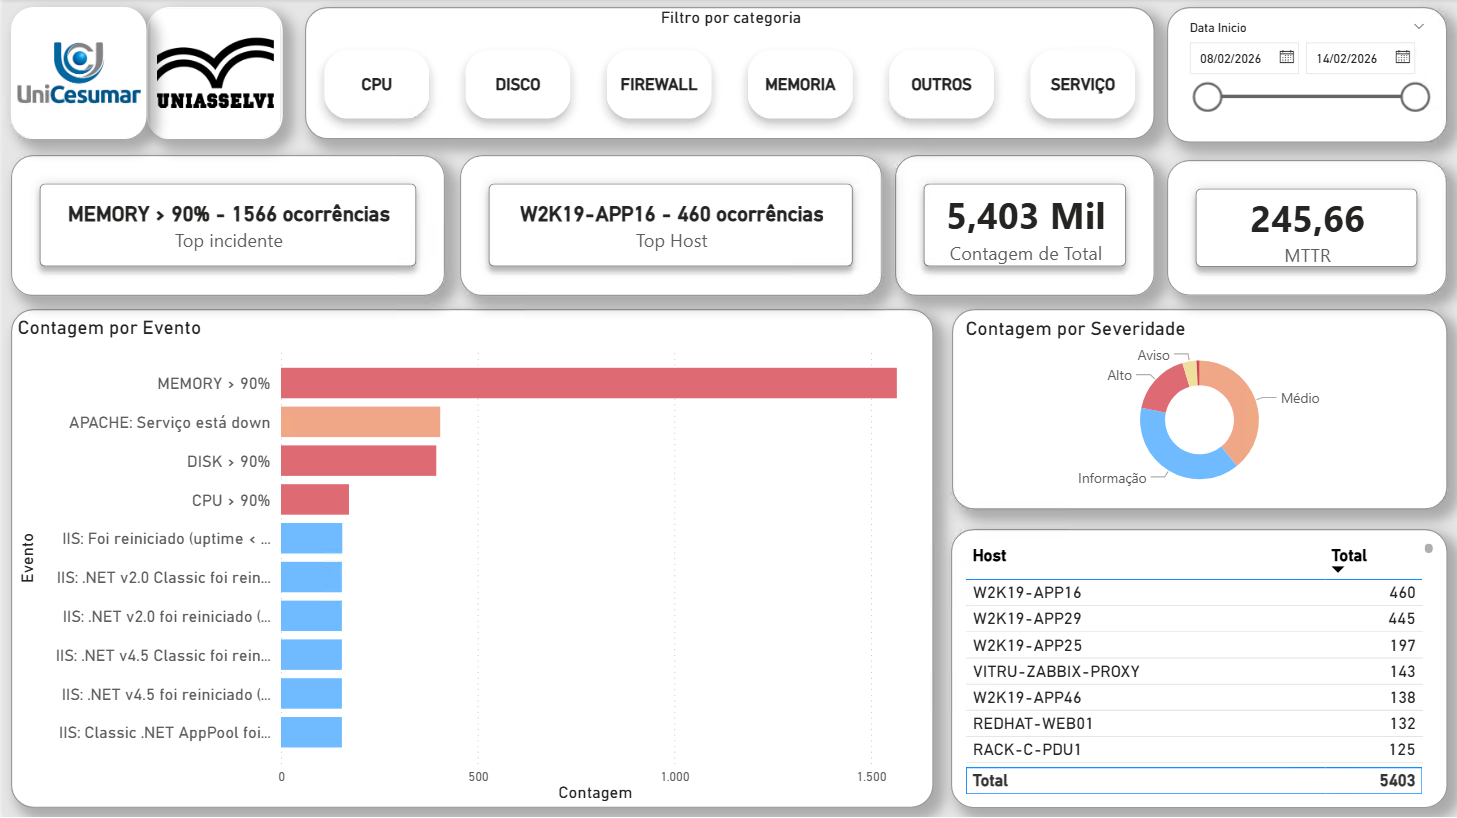

The page's visual inventory and layout, read from the dashboard file:
{"tool":"powerbi","page":{"name":"Zabbix Unicesumar (Operacional)","canvas":[1280,720],"ordinal":0},"visuals":[{"type":"clusteredBarChart","fields":{"Category":["Zabbix Unicesumar 08/02 -> 14/02.Evento Limpo"],"Y":["CountNonNull(Zabbix Unicesumar 08/02 -> 14/02.Evento Limpo)"]},"box":[0,250.2,832.4,469.8],"z":0},{"type":"tableEx","fields":{"Values":["Zabbix Unicesumar 08/02 -> 14/02.Host","Zabbix Unicesumar 08/02 -> 14/02.Evento"]},"box":[832.4,447.8,447.8,272.2],"z":1000},{"type":"cardVisual","fields":{"Data":["CountNonNull(Zabbix Unicesumar 08/02 -> 14/02.Evento)"]},"box":[1023.8,0,256.4,130.8],"z":2000},{"type":"advancedSlicerVisual","fields":{"Values":["Zabbix Unicesumar 08/02 -> 14/02.Categoria"]},"box":[0,130.8,743.7,119.4],"z":4000},{"type":"donutChart","fields":{"Category":["Zabbix Unicesumar 08/02 -> 14/02.Severidade"],"Y":["CountNonNull(Zabbix Unicesumar 08/02 -> 14/02.Evento Limpo)"]},"box":[833.3,249.4,446.9,198.4],"z":5000},{"type":"cardVisual","fields":{"Data":["Zabbix Unicesumar 08/02 -> 14/02.Top_Evento_Vertical"]},"box":[238.8,0,392.5,130.8],"z":5001},{"type":"cardVisual","fields":{"Data":["Avg(Zabbix Unicesumar 08/02 -> 14/02.Duracao_Minutos)"]},"box":[1023.8,130.8,256.4,118.5],"z":5003},{"type":"cardVisual","fields":{"Data":["Zabbix Unicesumar 08/02 -> 14/02.Top_Host_Vertical"]},"box":[631.3,0,392.5,130.8],"z":5004},{"type":"slicer","fields":{"Values":["Zabbix Unicesumar 08/02 -> 14/02.Data Inicio"]},"box":[743.7,130.8,280.1,119.4],"z":5005},{"type":"image","box":[119.4,0,119.4,104.5],"z":5006},{"type":"image","box":[0,0,119.4,104.5],"z":5007},{"type":"actionButton","box":[119.4,0,119.4,111.5],"z":5008}]}

Visuals, with their boxes in screenshot pixels (x1, y1, x2, y2), scaled from the page's 1280x720 canvas onto the 1457x818 screenshot:
clusteredBarChart - Zabbix Unicesumar 08/02 -> 14/02.Evento Limpo x CountNonNull(Zabbix Unicesumar 08/02 -> 14/02.Evento Limpo): [0, 284, 948, 817]
tableEx - Zabbix Unicesumar 08/02 -> 14/02.Host x Zabbix Unicesumar 08/02 -> 14/02.Evento: [948, 509, 1456, 817]
cardVisual - CountNonNull(Zabbix Unicesumar 08/02 -> 14/02.Evento): [1165, 0, 1456, 149]
advancedSlicerVisual - Zabbix Unicesumar 08/02 -> 14/02.Categoria: [0, 149, 847, 284]
donutChart - Zabbix Unicesumar 08/02 -> 14/02.Severidade x CountNonNull(Zabbix Unicesumar 08/02 -> 14/02.Evento Limpo): [949, 283, 1456, 509]
cardVisual - Zabbix Unicesumar 08/02 -> 14/02.Top_Evento_Vertical: [272, 0, 719, 149]
cardVisual - Avg(Zabbix Unicesumar 08/02 -> 14/02.Duracao_Minutos): [1165, 149, 1456, 283]
cardVisual - Zabbix Unicesumar 08/02 -> 14/02.Top_Host_Vertical: [719, 0, 1165, 149]
slicer - Zabbix Unicesumar 08/02 -> 14/02.Data Inicio: [847, 149, 1165, 284]
image: [136, 0, 272, 119]
image: [0, 0, 136, 119]
actionButton: [136, 0, 272, 127]
